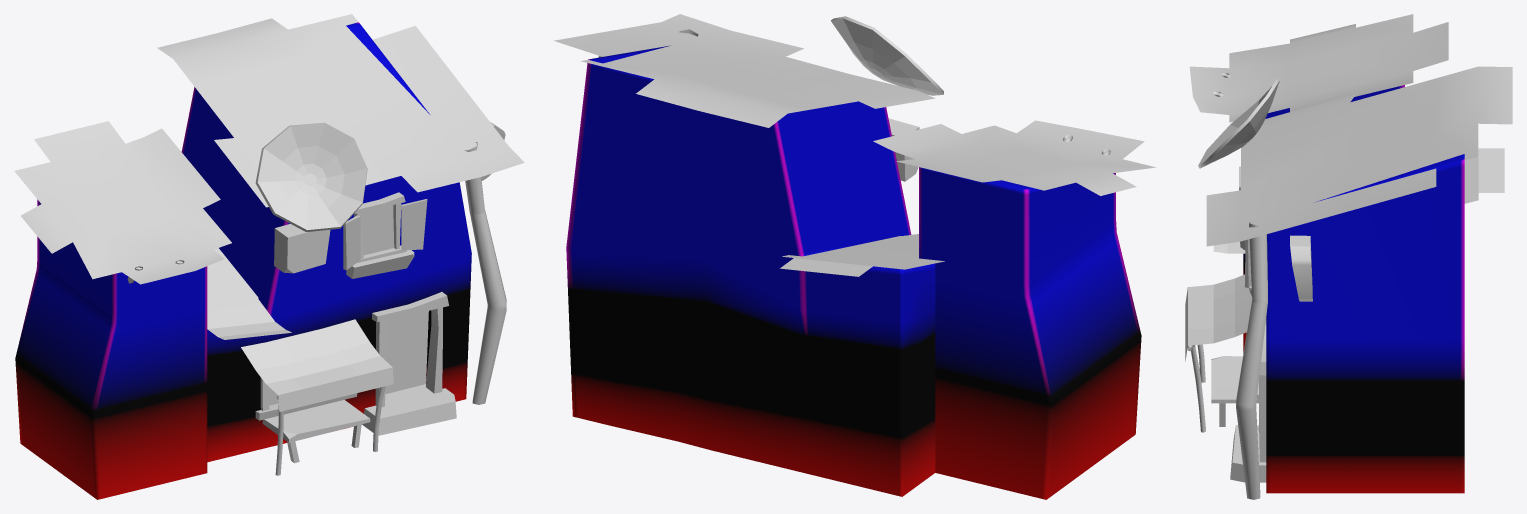
The model's file is V_test_house.FBX.
3 renders of one model, left to right at view 1: azimuth 30°, elevation 25°; view 2: azimuth 150°, elevation 25°; view 3: azimuth 270°, elevation 25°, orthographic. The views are drawn at different scales.
Parts seen in each view (by area): view 1: Box028, Object003, trucs_low, Cylinder009, Plane011, Plane015, Box042, Plane010; view 2: Box028, Object003, Cylinder009, Box042; view 3: Box028, Object003, trucs_low, Plane011, Cylinder009.
Part boxes in pixels (x1,y1,x2,y2): Box028: (15, 22, 471, 499); Object003: (14, 14, 524, 339); trucs_low: (255, 122, 506, 475); Cylinder009: (255, 122, 367, 231); Plane011: (241, 319, 393, 411); Plane015: (385, 311, 428, 394); Box042: (274, 224, 330, 273); Plane010: (360, 205, 394, 255); Box028: (566, 45, 1141, 499); Object003: (553, 14, 1156, 276); Cylinder009: (831, 16, 943, 95); Box042: (888, 118, 919, 181); Box028: (1243, 85, 1464, 493); Object003: (1189, 14, 1512, 253); trucs_low: (1191, 221, 1312, 499); Plane011: (1185, 274, 1266, 361); Cylinder009: (1198, 79, 1279, 168).
Bounding box in the file's own units: 1872 × 1238 × 1111.
